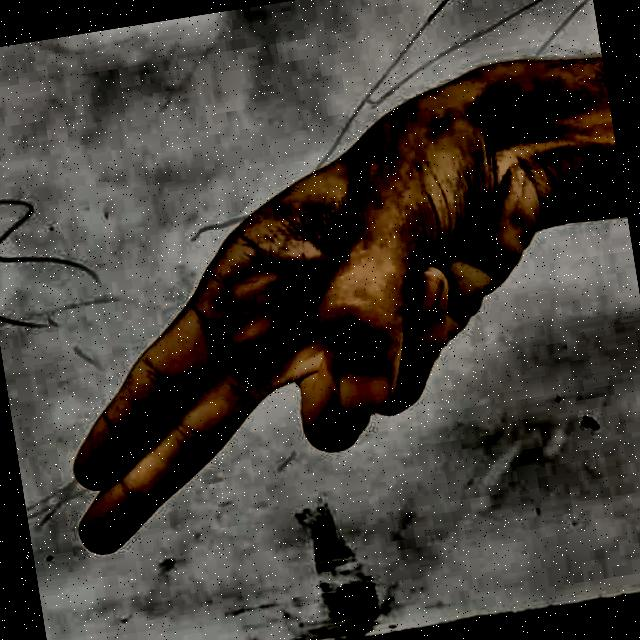Ha: (0, 40, 612, 640)
